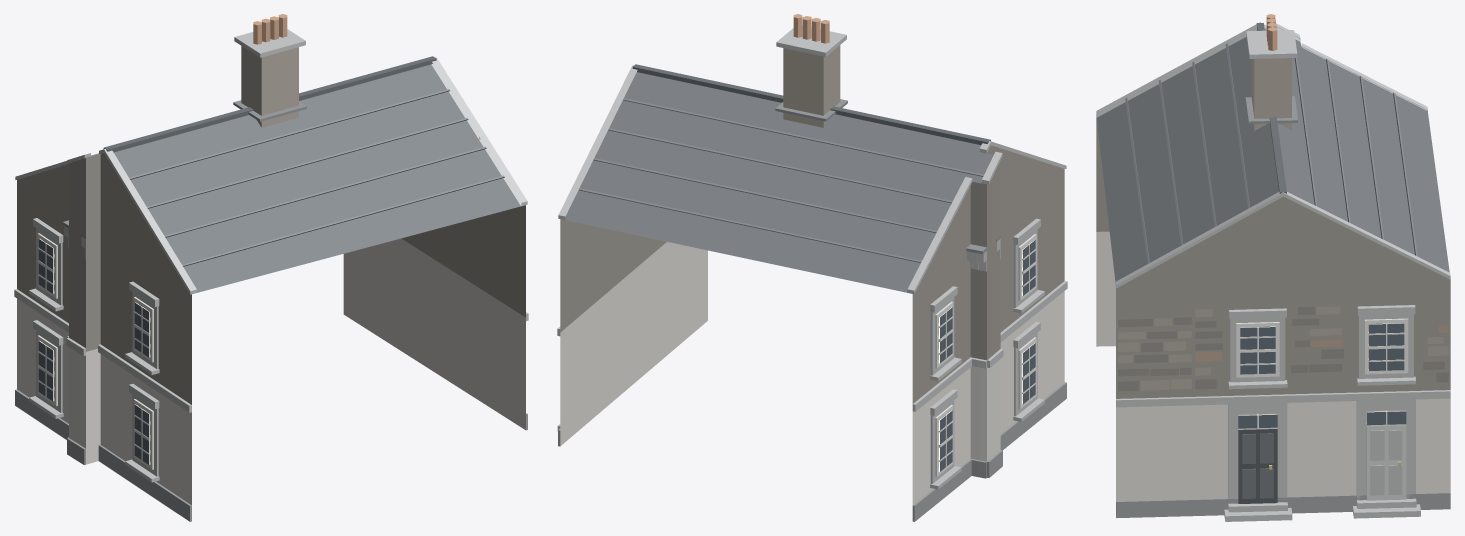
The picture shows the model from 3 angles, left to right: view 1: azimuth 30°, elevation 25°; view 2: azimuth 150°, elevation 25°; view 3: azimuth 270°, elevation 25°; orthographic projection.
Parts seen in each view (by area): view 1: slate, harl, rubble, stone_band, slate_lt, chim_stone, plinth, frame, slate_dk, pot, window_glass_007, window_glass_005 (+2 smaller); view 2: slate, harl, rubble, stone_band, slate_lt, chim_stone, plinth, frame, slate_dk, pot, lead, window_glass_005 (+1 smaller); view 3: slate, rubble, harl, stone_band, rubble_dk, slate_lt, plinth, rubble_lt, frame, chim_stone, door_cad_p, door_dark_p (+9 smaller).
Part boxes in pixels (x1,y1,x2,y2): slate: (114, 64, 520, 292); harl: (17, 238, 525, 505); rubble: (17, 153, 525, 404); stone_band: (14, 29, 528, 482); slate_lt: (91, 89, 504, 266); chim_stone: (241, 46, 298, 127); plinth: (15, 389, 527, 521); frame: (37, 233, 153, 469); slate_dk: (103, 56, 436, 152); pot: (253, 14, 287, 44); window_glass_007: (38, 341, 53, 401); window_glass_005: (134, 404, 149, 464); slate: (565, 72, 993, 292); harl: (560, 242, 1064, 504); rubble: (560, 145, 1064, 403); stone_band: (557, 25, 1067, 489); slate_lt: (579, 98, 983, 262); chim_stone: (783, 45, 840, 127); plinth: (558, 382, 1066, 521); frame: (935, 234, 1036, 476); slate_dk: (632, 64, 990, 144); pot: (793, 14, 829, 43); lead: (775, 99, 1000, 254); window_glass_005: (1022, 343, 1035, 404); slate: (1096, 29, 1449, 282); rubble: (1096, 117, 1450, 398); harl: (1096, 231, 1450, 500); stone_band: (1096, 22, 1450, 521); rubble_dk: (1118, 306, 1448, 391); slate_lt: (1125, 43, 1417, 263); plinth: (1116, 492, 1450, 518); rubble_lt: (1118, 306, 1448, 390); frame: (1236, 318, 1408, 429); chim_stone: (1251, 58, 1291, 130); door_cad_p: (1370, 430, 1402, 495); door_dark_p: (1242, 433, 1273, 498).
Size of the model in its own units: 11.27 by 11.32 by 8.97.
